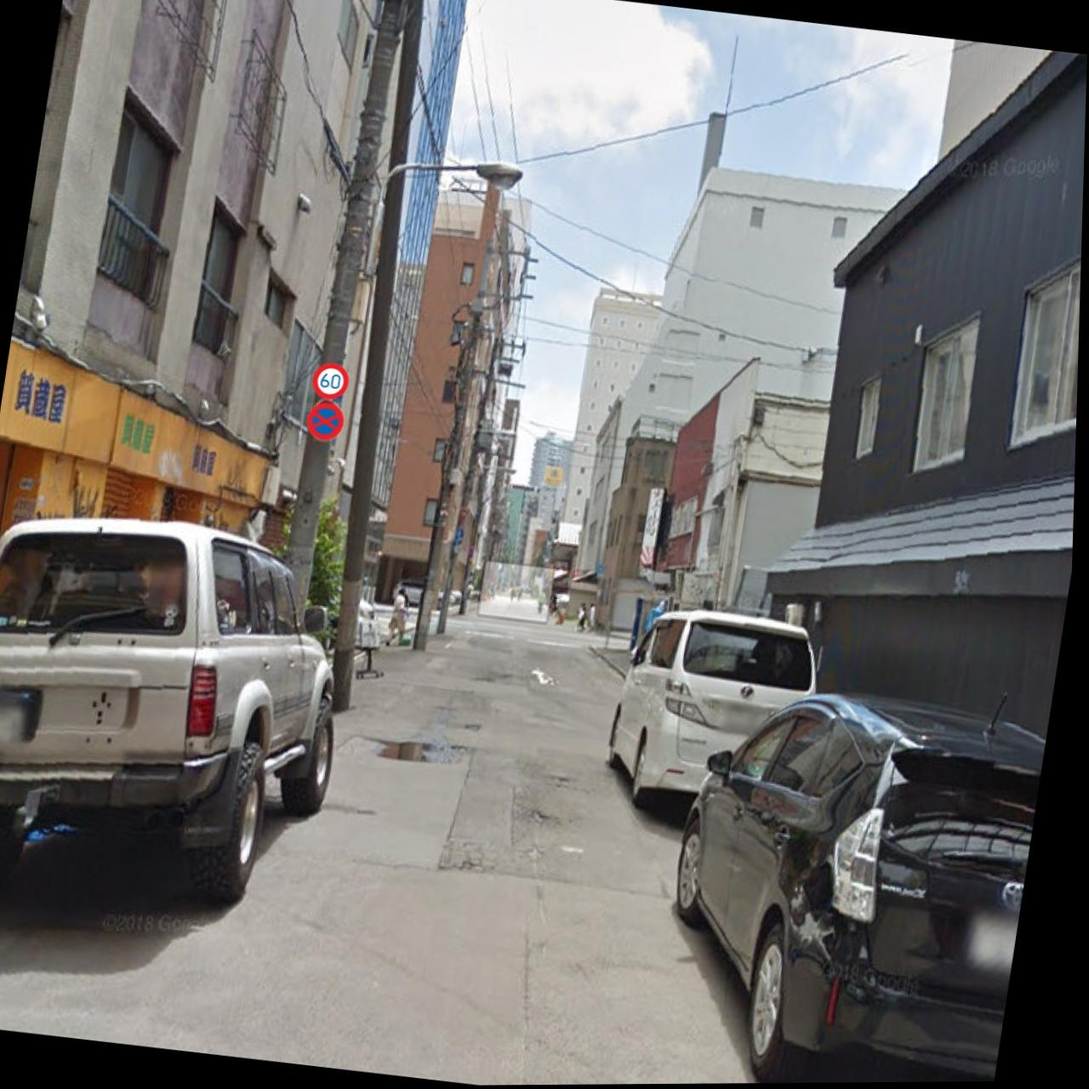stop_sign: (303, 399, 347, 442)
